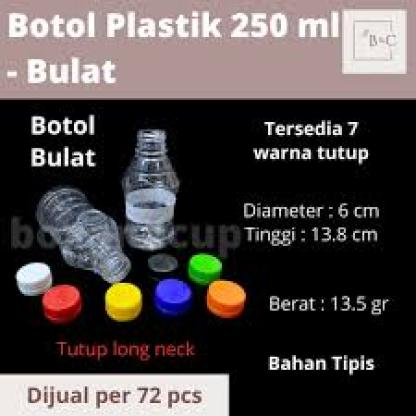Glass Bottle: (34, 184, 134, 286), (119, 126, 182, 252)
